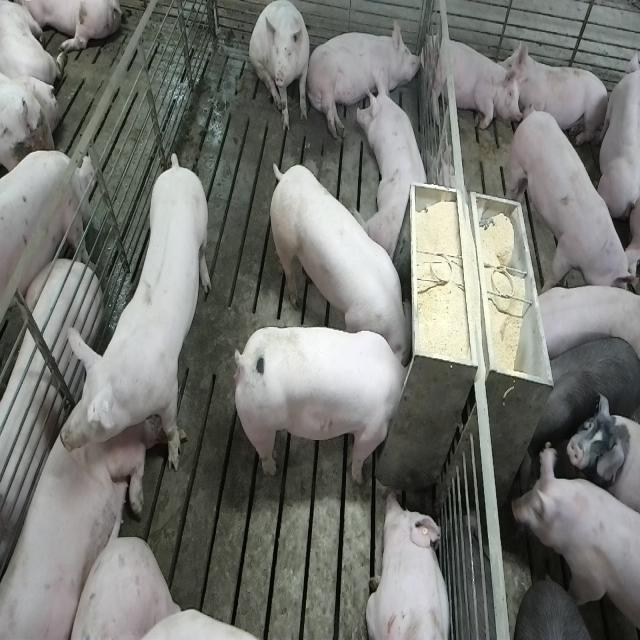Feeding: (264, 160, 412, 362), (240, 324, 417, 485)
Lateral_lying: (306, 15, 424, 141)
Sitting: (250, 2, 312, 134)
Standing: (61, 157, 212, 486), (510, 444, 638, 640), (508, 103, 634, 297), (0, 153, 94, 349), (528, 333, 640, 460), (526, 279, 639, 364), (518, 574, 610, 640)
Sternal_lying: (0, 372, 142, 635), (358, 70, 433, 258), (366, 490, 454, 640), (503, 40, 612, 153), (422, 32, 516, 133)
